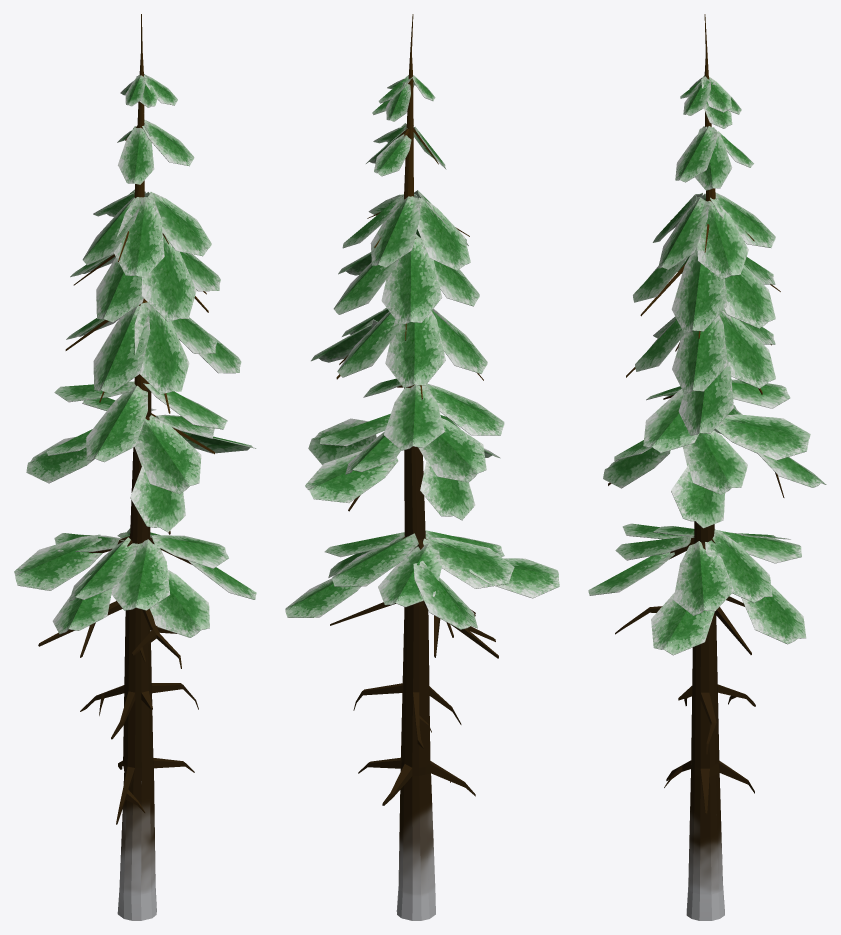
The model's file is fir02.fbx.
The picture shows the model from 3 angles, left to right: view 1: azimuth 30°, elevation 25°; view 2: azimuth 150°, elevation 25°; view 3: azimuth 270°, elevation 25°; orthographic projection.
Parts seen in each view (by area): view 1: fir02_LOD0; view 2: fir02_LOD0; view 3: fir02_LOD0.
Boxes of the visible parts, box(x1,y1,x2,y2) form: fir02_LOD0: box(14, 14, 256, 920); fir02_LOD0: box(285, 14, 559, 920); fir02_LOD0: box(588, 14, 826, 920).
Size of what is drawn, in the model's own units: 1800 by 7009 by 1680.
Materials: 2 (2 with a texture image).
